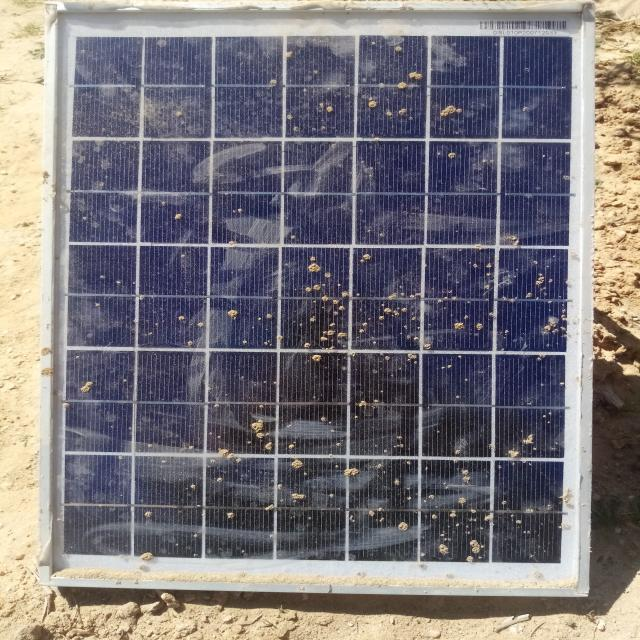faulty: (43, 2, 589, 595)
